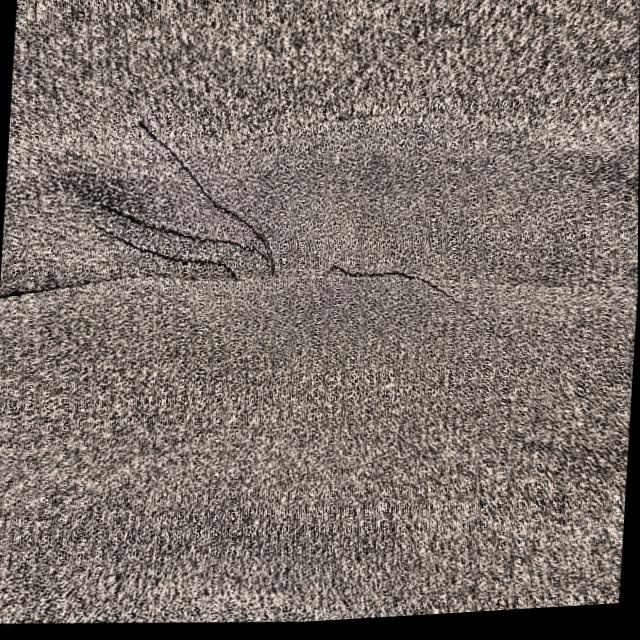Stitch: (58, 48, 518, 389), (67, 73, 317, 323), (309, 208, 483, 351)
